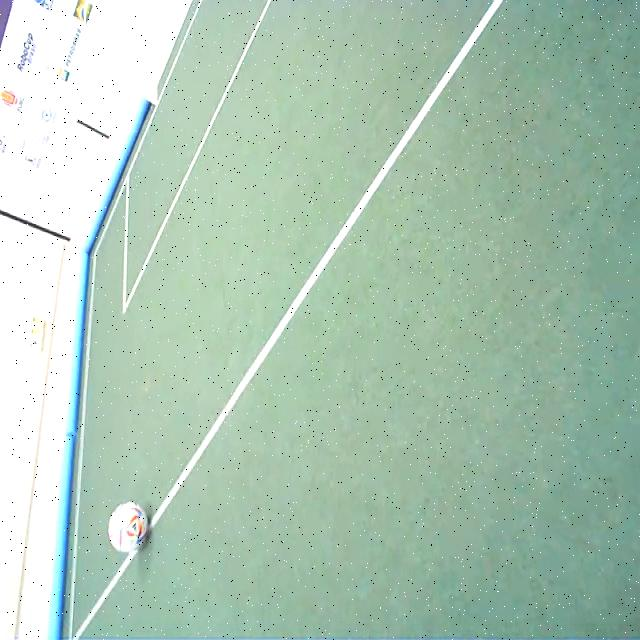ball: (108, 503, 148, 551)
